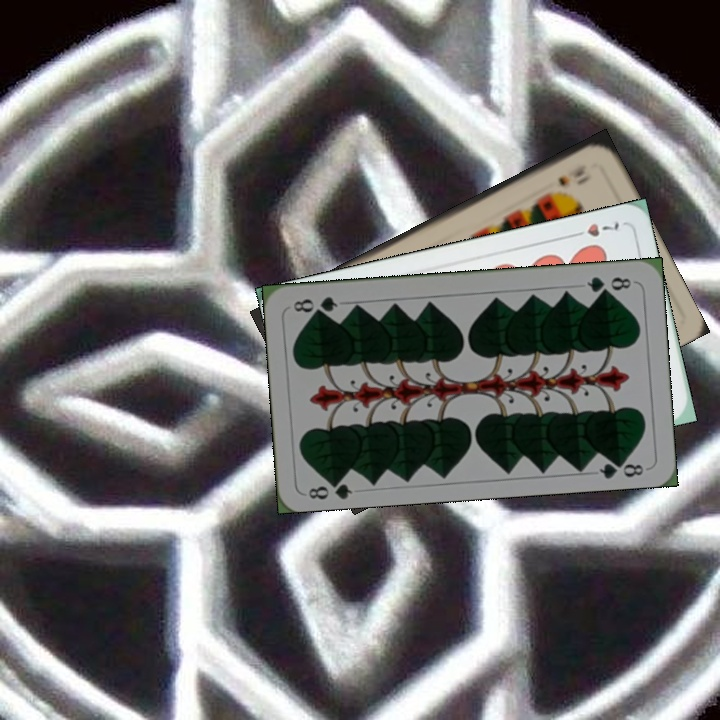G8: (304, 473, 355, 502), (583, 272, 634, 296)
H7: (566, 217, 622, 240)
S10: (554, 161, 589, 189)
